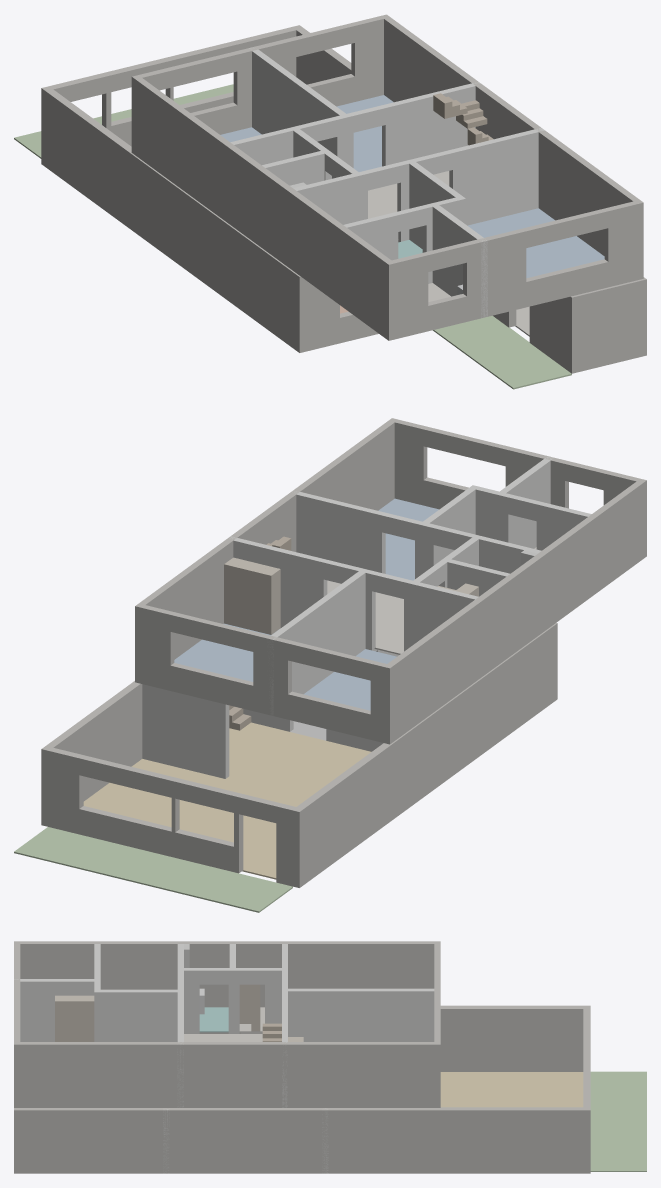
Rendered from PROP_1020.glb.
3 views of the same model, one above another, from view 1: azimuth 30°, elevation 25°; view 2: azimuth 150°, elevation 25°; view 3: azimuth 270°, elevation 25° (orthographic). The views are drawn at different scales.
Visible parts, largest first — view 1: L1_wall_F1_W0, L0_wall_F0_W5, L1_wall_F1_W3, L1_wall_F1_W2, L1_wall_F1_W5, L1_wall_F1_W1, L1_wall_F1_W4, L0_wall_F0_W2, L0_wall_F0_W4, L0_floor_F0_R0_0, L1_wall_F1_W11, L1_floor_F1_R3_0 (+13 smaller); view 2: L1_wall_F1_W0, L0_wall_F0_W5, L1_wall_F1_W1, L0_wall_F0_W4, L0_floor_F0_R2_0, L1_wall_F1_W2, L1_wall_F1_W5, L0_floor_F0_R3_0, L1_wall_F1_W4, L1_wall_F1_W3, L0_wall_F0_W12, L1_wall_F1_W11 (+13 smaller); view 3: L0_wall_F0_W3, L1_wall_F1_W2, L1_wall_F1_W0, L0_wall_F0_W5, L1_wall_F1_W11, L0_floor_F0_R3_0, L0_floor_F0_R2_0, L1_wall_F1_W6, L1_wall_F1_W9, L1_wall_F1_W8, L1_fixture_F1_X11, L1_wall_F1_W5 (+10 smaller).
Boxes of the visible parts, <box> form: L1_wall_F1_W0: <box>131,76,391,340</box>; L0_wall_F0_W5: <box>41,88,299,352</box>; L1_wall_F1_W3: <box>389,201,643,340</box>; L1_wall_F1_W2: <box>384,15,643,255</box>; L1_wall_F1_W5: <box>293,127,544,241</box>; L1_wall_F1_W1: <box>133,14,386,134</box>; L1_wall_F1_W4: <box>230,81,481,178</box>; L0_wall_F0_W2: <box>572,279,646,373</box>; L0_wall_F0_W4: <box>42,25,299,146</box>; L0_floor_F0_R0_0: <box>433,315,571,389</box>; L1_wall_F1_W11: <box>249,47,350,178</box>; L1_floor_F1_R3_0: <box>468,208,604,278</box>; L1_wall_F1_W0: <box>387,480,646,743</box>; L0_wall_F0_W5: <box>296,623,557,887</box>; L1_wall_F1_W1: <box>135,605,389,744</box>; L0_wall_F0_W4: <box>41,747,299,887</box>; L0_floor_F0_R2_0: <box>83,722,371,879</box>; L1_wall_F1_W2: <box>136,418,394,659</box>; L1_wall_F1_W5: <box>292,490,541,578</box>; L0_floor_F0_R3_0: <box>14,827,292,912</box>; L1_wall_F1_W4: <box>229,536,478,651</box>; L1_wall_F1_W3: <box>392,418,646,509</box>; L0_wall_F0_W12: <box>142,684,229,778</box>; L1_wall_F1_W11: <box>267,569,368,715</box>; L0_wall_F0_W3: <box>14,1107,590,1173</box>; L1_wall_F1_W2: <box>14,1042,440,1107</box>; L1_wall_F1_W0: <box>14,941,440,1007</box>; L0_wall_F0_W5: <box>199,1005,590,1071</box>; L1_wall_F1_W11: <box>288,988,434,1041</box>; L0_floor_F0_R3_0: <box>590,1071,646,1171</box>; L0_floor_F0_R2_0: <box>440,1072,583,1107</box>; L1_wall_F1_W6: <box>94,989,177,1041</box>; L1_wall_F1_W9: <box>177,968,281,1033</box>; L1_wall_F1_W8: <box>14,979,94,1041</box>; L1_fixture_F1_X11: <box>55,995,81,1041</box>; L1_wall_F1_W5: <box>177,944,183,1107</box>.
Bounding box in the file's own units: 9.58 × 5.55 × 24.52.
